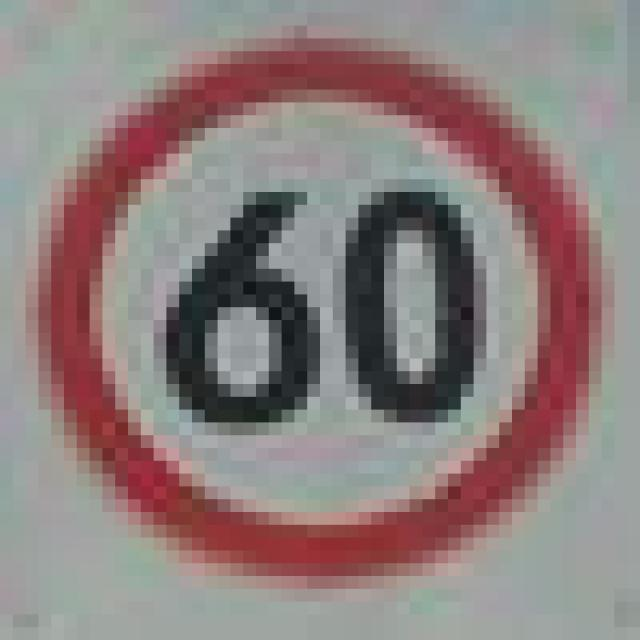SPEED_LIMIT_60: (26, 39, 588, 564)
